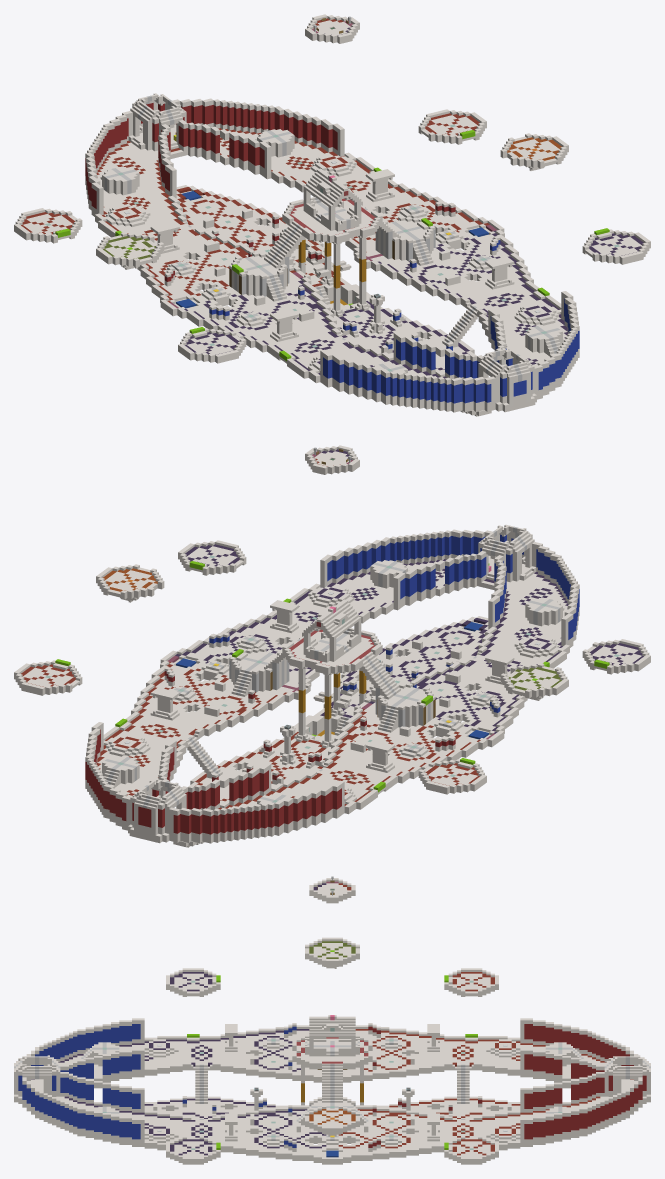
File: minecraft.obj
3 views of the same model, one above another, from view 1: azimuth 30°, elevation 25°; view 2: azimuth 150°, elevation 25°; view 3: azimuth 270°, elevation 25° (orthographic). The views are drawn at different scales.
Bounding box in the file's own units: 107 × 68 × 151.
